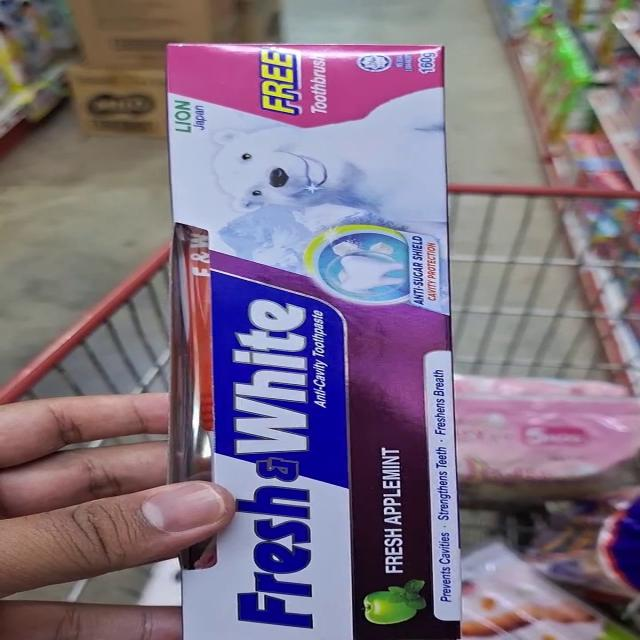Ubat Gigi: (157, 35, 484, 355), (154, 323, 483, 640)
